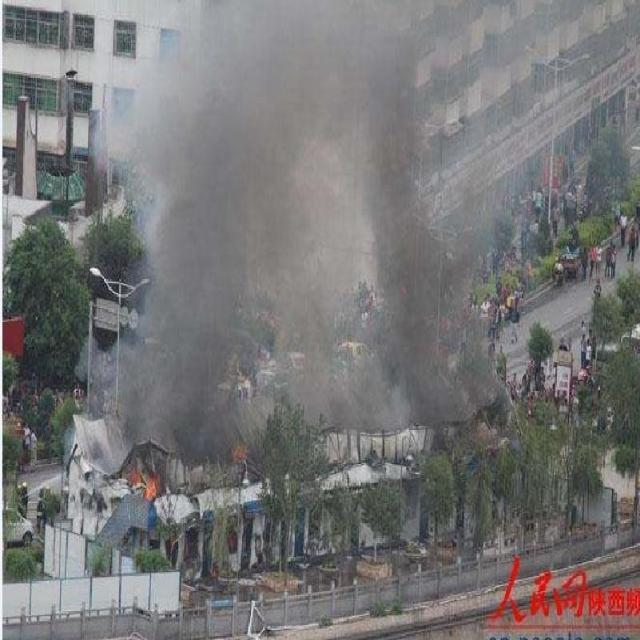Smoke: (61, 1, 510, 478)
